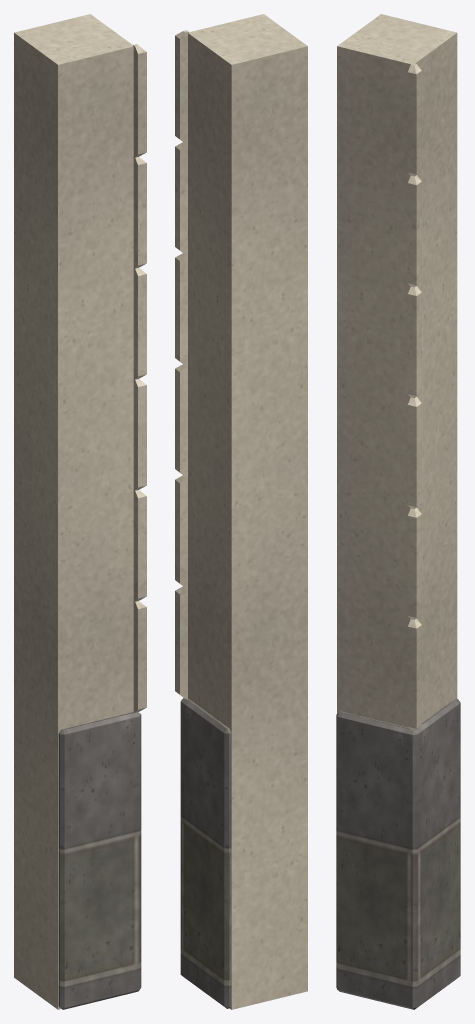
The model's file is corner_pv_g.glb.
3 views of the same model, side by side, from view 1: azimuth 30°, elevation 25°; view 2: azimuth 210°, elevation 25°; view 3: azimuth 330°, elevation 25° (orthographic).
Visible parts, largest first — view 1: corner_pv_g_ashlar, corner_pv_g_plinth; view 2: corner_pv_g_ashlar, corner_pv_g_plinth; view 3: corner_pv_g_ashlar, corner_pv_g_plinth.
Part boxes in pixels (x1=…): corner_pv_g_ashlar: x1=14, y1=14, x2=146, y2=1009; corner_pv_g_plinth: x1=58, y1=711, x2=141, y2=1009; corner_pv_g_ashlar: x1=175, y1=14, x2=307, y2=1009; corner_pv_g_plinth: x1=180, y1=698, x2=231, y2=1008; corner_pv_g_ashlar: x1=337, y1=14, x2=457, y2=989; corner_pv_g_plinth: x1=336, y1=698, x2=460, y2=1009.
Size of the model in its own units: 0.331 by 3.55 by 0.331.
Materials: 2 (2 with a texture image).
